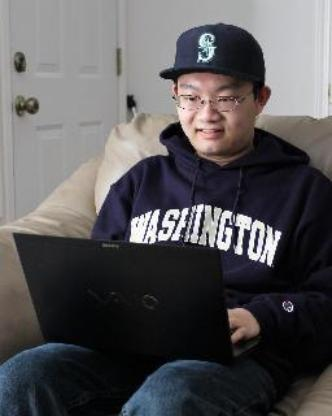person: (0, 15, 332, 412)
